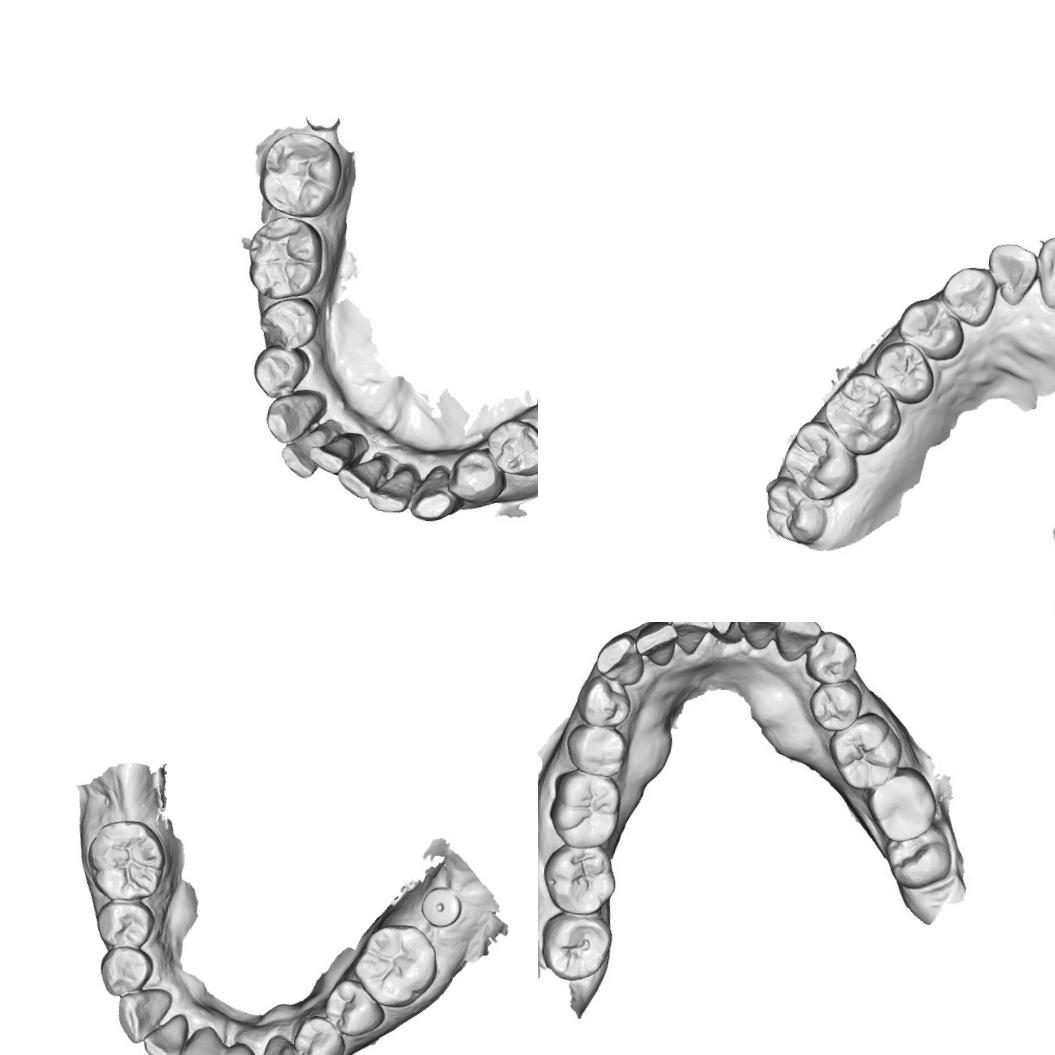canine: (260, 388, 324, 448), (114, 984, 173, 1046), (942, 262, 996, 329), (410, 458, 461, 524), (590, 632, 648, 684), (771, 622, 817, 664), (251, 1031, 306, 1055)
implant: (417, 883, 463, 929)
incisor: (984, 241, 1040, 309), (332, 450, 388, 504), (365, 464, 415, 518), (276, 428, 324, 482), (139, 1009, 189, 1055), (311, 432, 363, 475), (640, 622, 681, 668), (170, 1022, 222, 1055), (1035, 234, 1055, 302), (736, 622, 779, 647), (673, 622, 710, 651), (208, 1039, 259, 1055), (712, 622, 744, 636)
molar: (349, 919, 442, 1011), (257, 127, 345, 222), (82, 815, 170, 905), (243, 212, 326, 303), (780, 423, 859, 500), (548, 768, 625, 846), (542, 843, 616, 913), (826, 376, 894, 452), (541, 912, 611, 980), (882, 824, 952, 892), (832, 718, 900, 788), (762, 480, 828, 547), (868, 774, 936, 836)
premolar: (868, 337, 936, 405), (322, 976, 388, 1040), (898, 298, 966, 360), (443, 446, 508, 508), (256, 293, 320, 354), (482, 414, 538, 481), (90, 897, 156, 952), (96, 943, 155, 1000), (249, 346, 312, 399), (573, 675, 631, 729), (288, 1012, 348, 1055), (570, 728, 622, 777), (811, 630, 859, 683), (811, 684, 858, 729)
